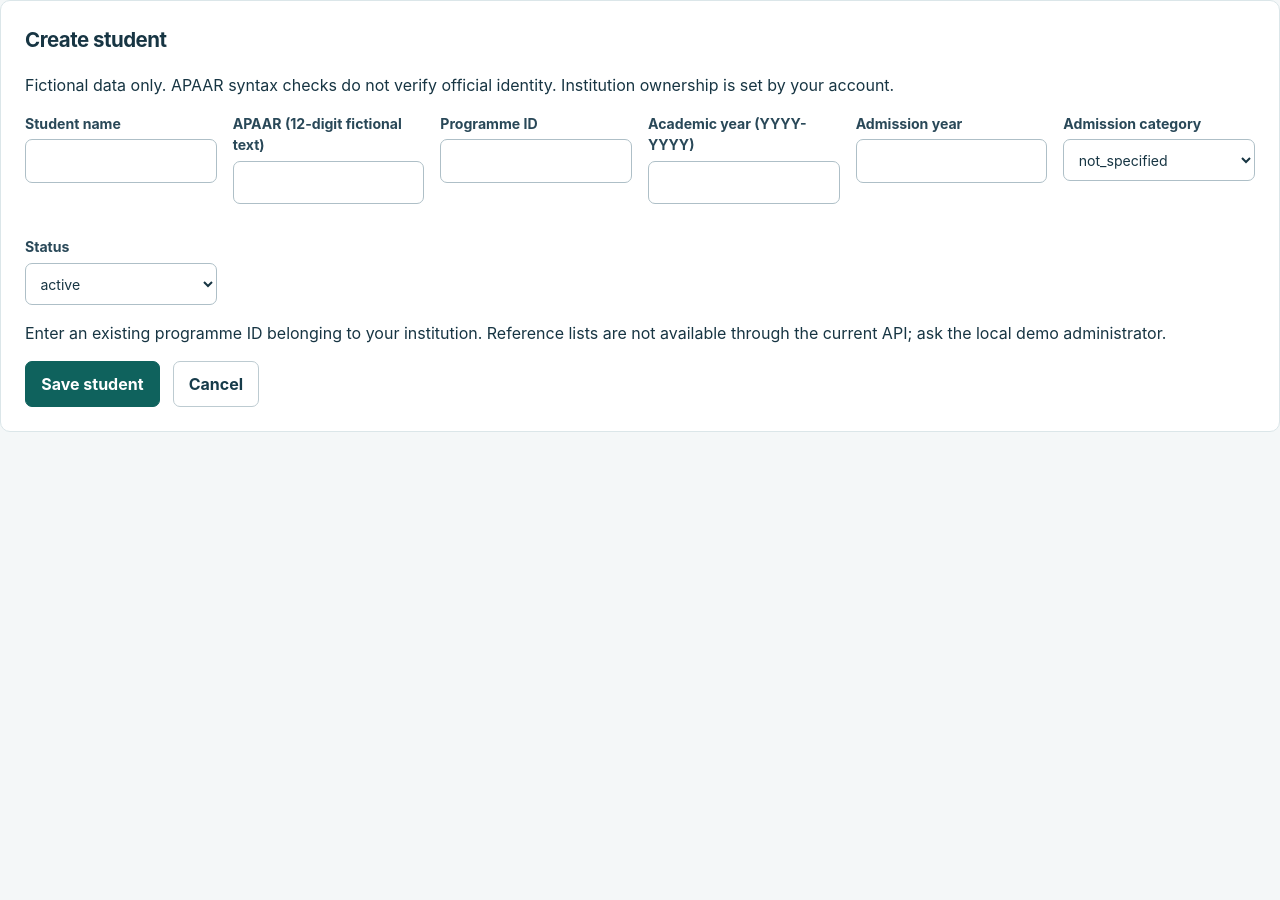
Test case: student management › validates create before sending any request
Click the button "Save student". click: coordinates (92, 384)
box: [25,361,160,407]
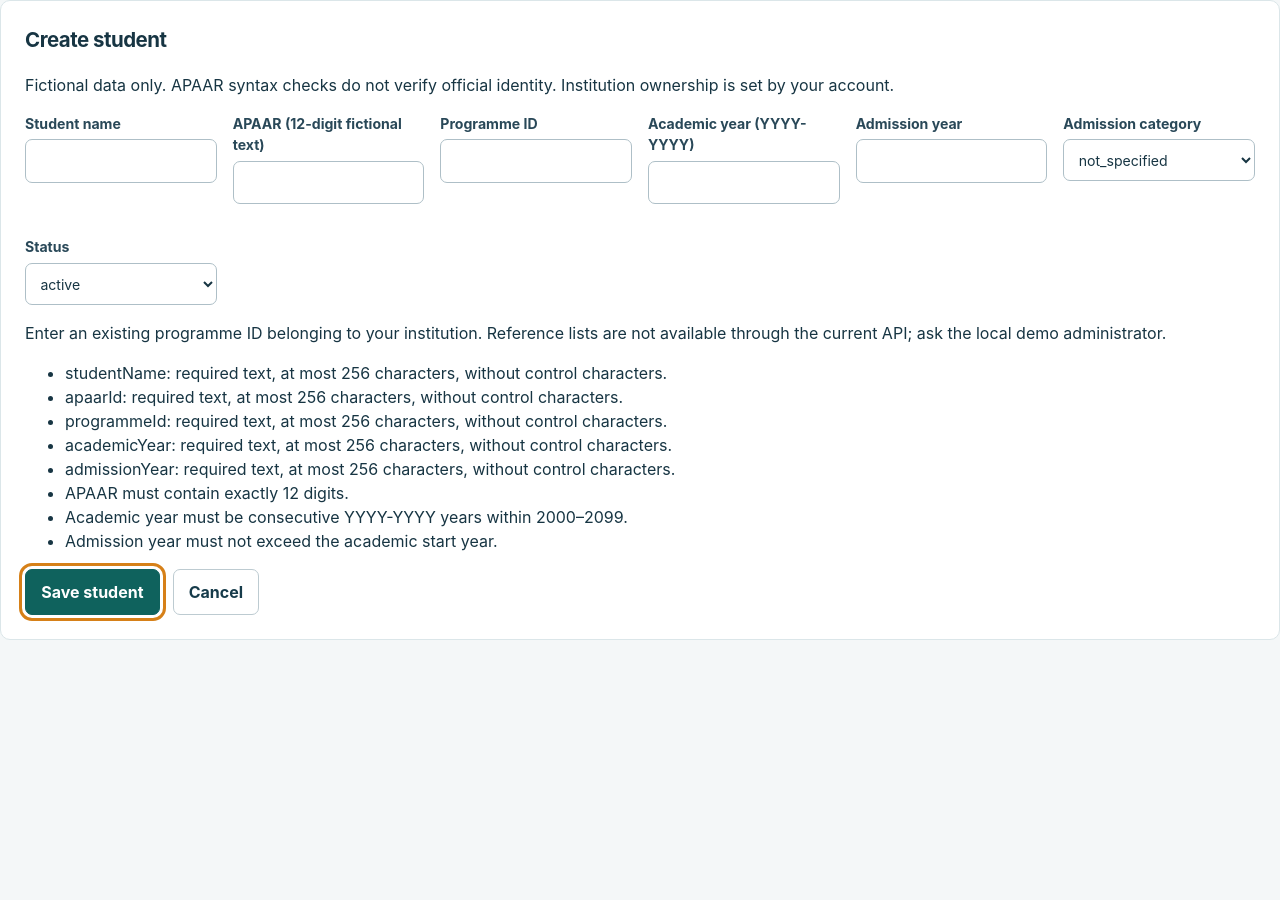
Check: the message shows "APAAR must contain exactly 12 digits", box [65,483,349,503]
